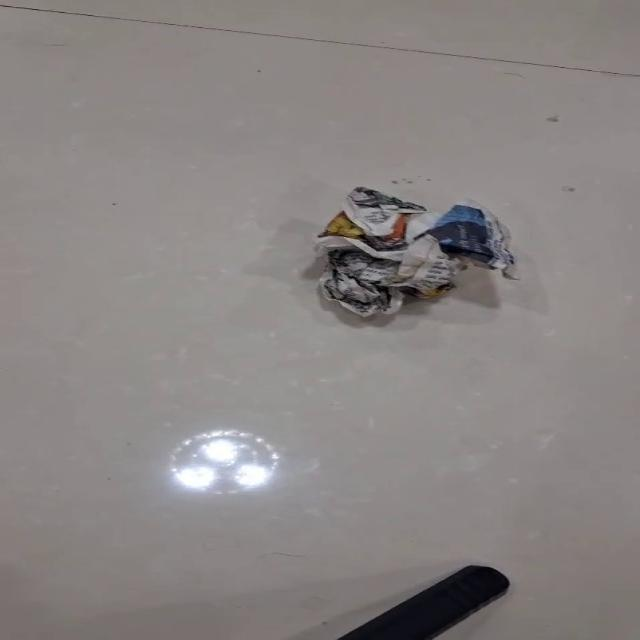paper: (312, 185, 519, 318)
